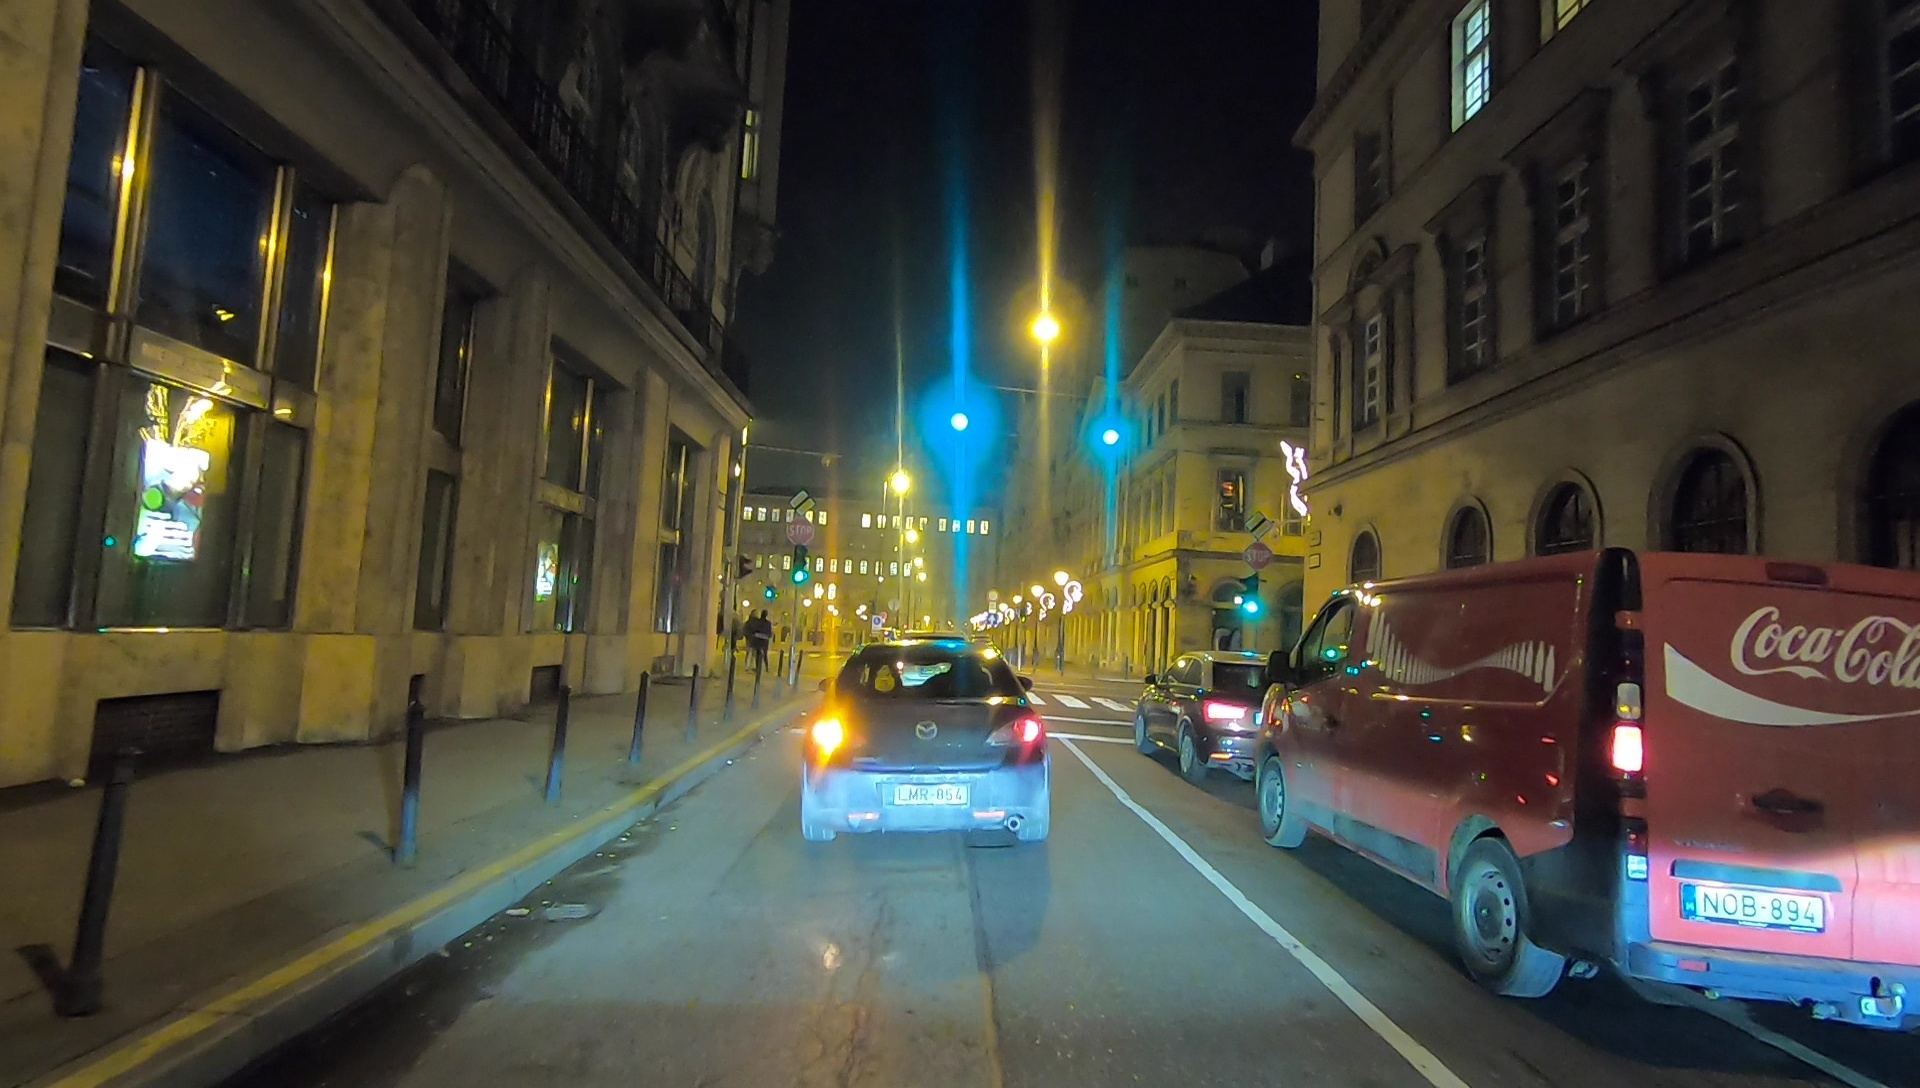person: (749, 611, 773, 676)
